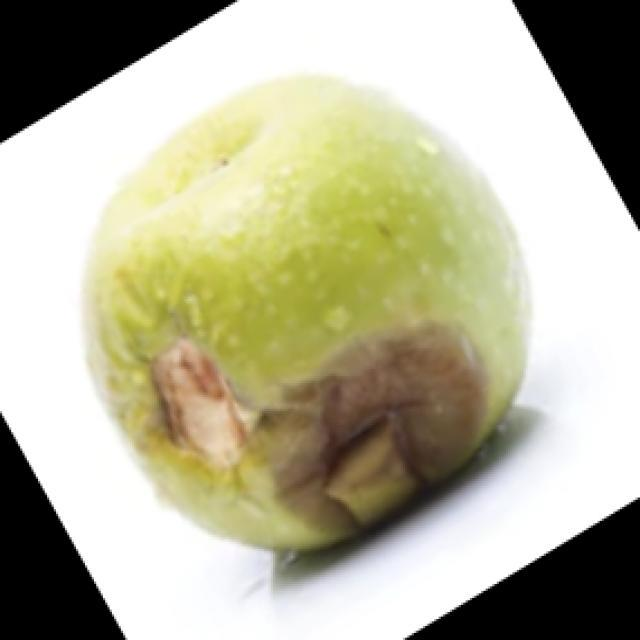Rotten: (37, 70, 528, 560)
